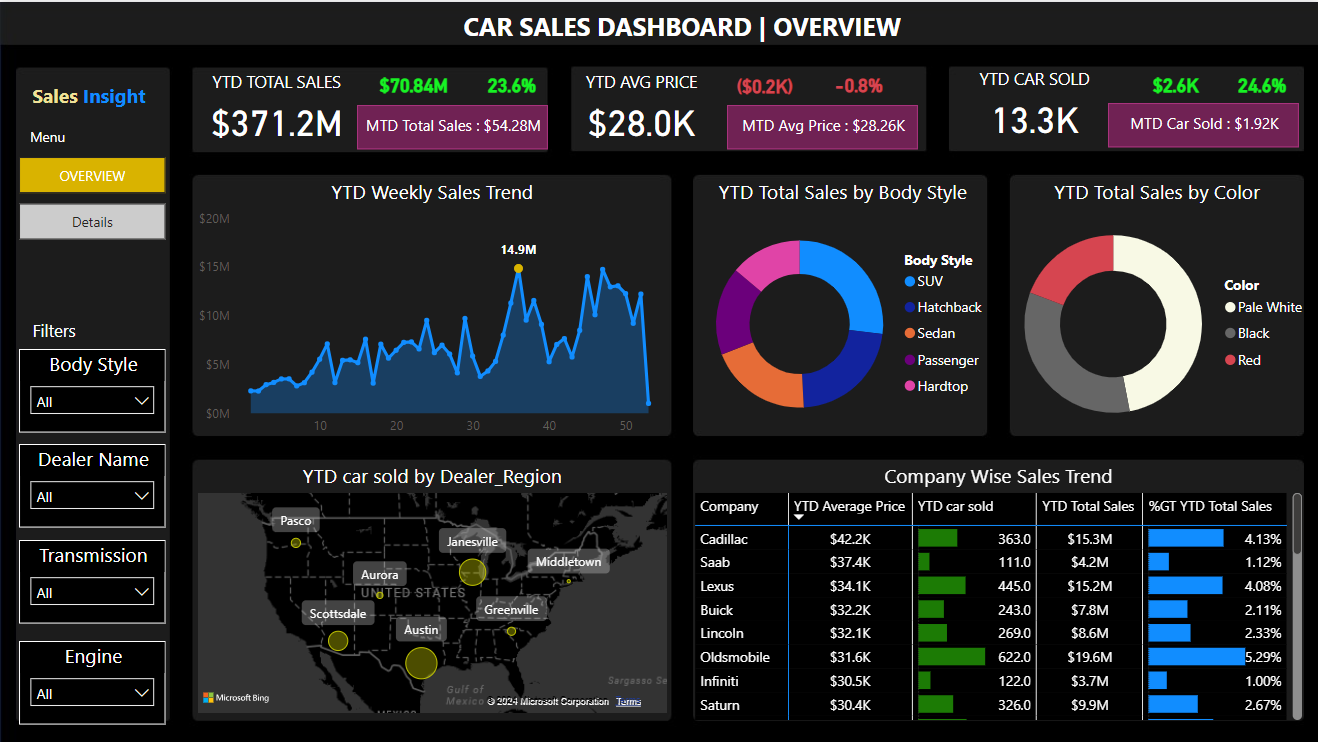

This screenshot's page, from the dashboard's own definition file:
{"tool":"powerbi","page":{"name":"OVERVIEW","canvas":[1280,720],"ordinal":0},"visuals":[{"type":"card","title":"YTD TOTAL SALES","fields":{"Values":["car_data.YTD Total Sales"]},"box":[188,65.9,161.9,76.8],"z":0},{"type":"card","fields":{"Values":["car_data.Sales Diff"]},"box":[363.6,61.7,76.8,38.4],"z":1000},{"type":"card","fields":{"Values":["car_data.YOY Total Sales"]},"box":[451.5,56.3,90.6,50.8],"z":2000},{"type":"card","fields":{"Values":["car_data.MTD KPI"]},"box":[347.2,100.2,185.2,42.5],"z":3000},{"type":"card","title":"YTD AVG PRICE","fields":{"Values":["car_data.YTD Average Price"]},"box":[542,65.9,161.9,76.8],"z":4000},{"type":"card","fields":{"Values":["car_data.Avg Sales Diff"]},"box":[703.9,63.1,76.8,38.4],"z":5000},{"type":"card","fields":{"Values":["car_data.YOY Avg Price"]},"box":[798.6,56.3,68.6,50.8],"z":6000},{"type":"card","fields":{"Values":["car_data.MTD Avg Price KPI"]},"box":[705.3,100.2,185.2,42.5],"z":7000},{"type":"card","title":"YTD CAR SOLD","fields":{"Values":["car_data.YTD car sold"]},"box":[922.1,63.1,161.9,76.8],"z":8000},{"type":"card","fields":{"Values":["car_data.Car Sold Diff"]},"box":[1101.9,61.7,76.8,38.4],"z":9000},{"type":"card","fields":{"Values":["car_data.YOY Car Sold"]},"box":[1167.8,56.3,112.5,50.8],"z":10000},{"type":"card","fields":{"Values":["car_data.MTD Car Sold KPI"]},"box":[1074.4,97.4,185.2,42.5],"z":11000},{"type":"areaChart","title":"YTD Weekly Sales Trend","fields":{"Category":["calender.week"],"Y":["Sum(car_data.Price ($))","car_data.Max Point Area Chart"]},"box":[188,170.2,463.8,258],"z":12000},{"type":"donutChart","fields":{"Y":["car_data.YTD Total Sales"],"Category":["car_data.Body Style"]},"box":[669.6,170.2,296.4,258],"z":13000},{"type":"donutChart","fields":{"Y":["car_data.YTD Total Sales"],"Category":["car_data.Color"]},"box":[967.4,170.2,310.1,258],"z":14000},{"type":"map","fields":{"Size":["car_data.YTD car sold"],"Category":["car_data.Dealer_Region"]},"box":[188,446,463.8,248.4],"z":15000},{"type":"pivotTable","title":"Company Wise Sales Trend","fields":{"Rows":["car_data.Company"],"Values":["car_data.YTD Average Price","car_data.YTD car sold","car_data.YTD Total Sales1","car_data.YTD Total Sales"]},"box":[669.6,445.7,597.9,254.8],"z":16000},{"type":"textbox","box":[438,1.9,454.4,48.4],"z":17000},{"type":"slicer","title":"Body Style","fields":{"Values":["car_data.Body Style"]},"box":[19.4,336.2,142.4,81.4],"z":18000},{"type":"slicer","title":"Dealer Name","fields":{"Values":["car_data.Dealer_Name"]},"box":[19.4,428.3,142.4,81.4],"z":19000},{"type":"slicer","title":"Transmission","fields":{"Values":["car_data.Transmission"]},"box":[19.4,521.3,142.4,81.4],"z":20000},{"type":"slicer","title":"Engine ","fields":{"Values":["car_data.Engine"]},"box":[19.4,619.2,142.4,81.4],"z":21000},{"type":"textbox","box":[19.4,302.3,67.8,32.9],"z":22000},{"type":"textbox","box":[19.4,72.7,135.7,45.5],"z":23000},{"type":"textbox","box":[19.4,116.3,55.2,32.9],"z":24000},{"type":"pageNavigator","box":[19.4,150.2,142.4,81.4],"z":25000}]}

Visuals, with their boxes in screenshot pixels (x1, y1, x2, y2), scaled from the page's 1280x720 canvas onto the 1318x742 screenshot:
"YTD TOTAL SALES" card: (x1=194, y1=68, x2=360, y2=147)
card - car_data.Sales Diff: (x1=374, y1=64, x2=453, y2=103)
card - car_data.YOY Total Sales: (x1=465, y1=58, x2=558, y2=110)
card - car_data.MTD KPI: (x1=358, y1=103, x2=548, y2=147)
"YTD AVG PRICE" card: (x1=558, y1=68, x2=725, y2=147)
card - car_data.Avg Sales Diff: (x1=725, y1=65, x2=804, y2=105)
card - car_data.YOY Avg Price: (x1=822, y1=58, x2=893, y2=110)
card - car_data.MTD Avg Price KPI: (x1=726, y1=103, x2=917, y2=147)
"YTD CAR SOLD" card: (x1=949, y1=65, x2=1116, y2=144)
card - car_data.Car Sold Diff: (x1=1135, y1=64, x2=1214, y2=103)
card - car_data.YOY Car Sold: (x1=1202, y1=58, x2=1317, y2=110)
card - car_data.MTD Car Sold KPI: (x1=1106, y1=100, x2=1297, y2=144)
"YTD Weekly Sales Trend" areaChart: (x1=194, y1=175, x2=671, y2=441)
donutChart - car_data.YTD Total Sales x car_data.Body Style: (x1=689, y1=175, x2=995, y2=441)
donutChart - car_data.YTD Total Sales x car_data.Color: (x1=996, y1=175, x2=1315, y2=441)
map - car_data.YTD car sold x car_data.Dealer_Region: (x1=194, y1=460, x2=671, y2=716)
"Company Wise Sales Trend" pivotTable: (x1=689, y1=459, x2=1305, y2=722)
textbox: (x1=451, y1=2, x2=919, y2=52)
"Body Style" slicer: (x1=20, y1=346, x2=167, y2=430)
"Dealer Name" slicer: (x1=20, y1=441, x2=167, y2=525)
"Transmission" slicer: (x1=20, y1=537, x2=167, y2=621)
"Engine " slicer: (x1=20, y1=638, x2=167, y2=722)
textbox: (x1=20, y1=312, x2=90, y2=345)
textbox: (x1=20, y1=75, x2=160, y2=122)
textbox: (x1=20, y1=120, x2=77, y2=154)
pageNavigator: (x1=20, y1=155, x2=167, y2=239)
